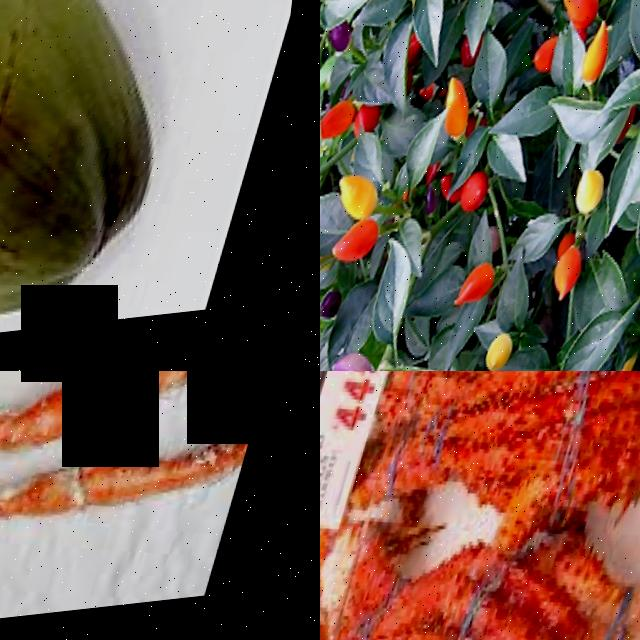chilli: (331, 215, 397, 280), (435, 77, 491, 152), (462, 250, 518, 323), (334, 169, 394, 225)
coconut: (0, 0, 245, 371)
crab: (361, 371, 640, 573), (330, 511, 640, 640), (27, 371, 299, 483), (0, 393, 104, 606)
